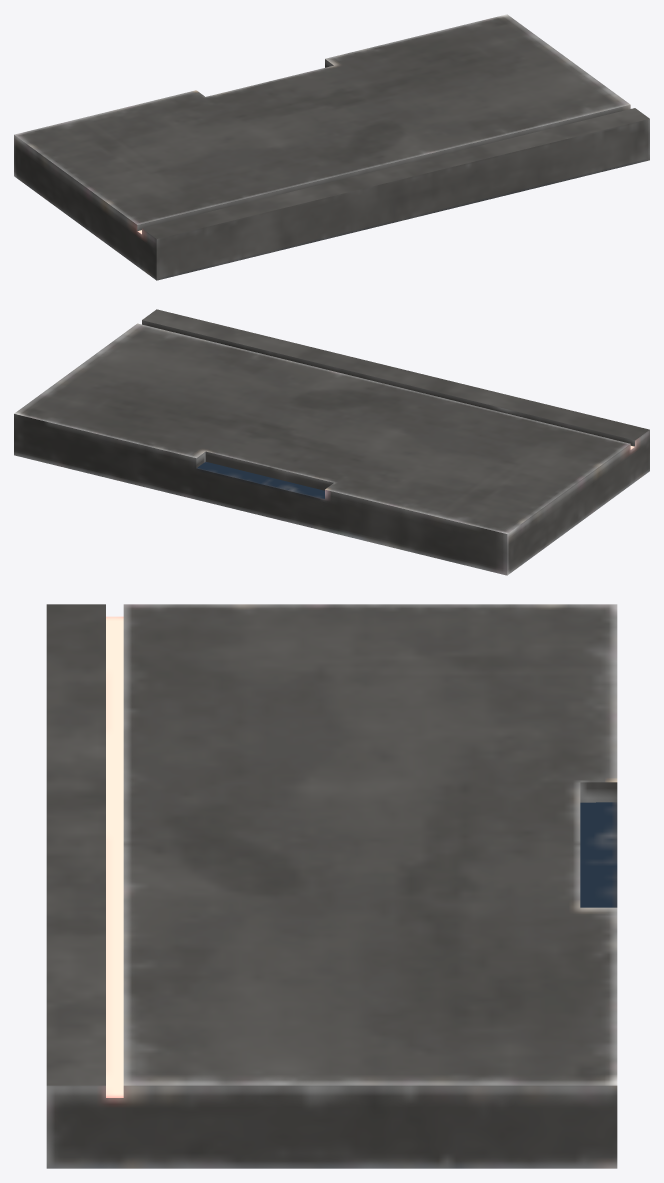
The model's file is FUT0510041.fbx.
The picture shows the model from 3 angles, top to bottom: view 1: azimuth 30°, elevation 25°; view 2: azimuth 150°, elevation 25°; view 3: azimuth 270°, elevation 25°; orthographic projection. The views are drawn at different scales.
Parts seen in each view (by area): view 1: smFUT0510041; view 2: smFUT0510041; view 3: smFUT0510041.
Part boxes in pixels (left/top/right/bottom): smFUT0510041: left=14, top=14, right=649, bottom=280; smFUT0510041: left=14, top=309, right=649, bottom=575; smFUT0510041: left=46, top=604, right=617, bottom=1168.
Size of the model in its own units: 168 by 13.52 by 84.17.
